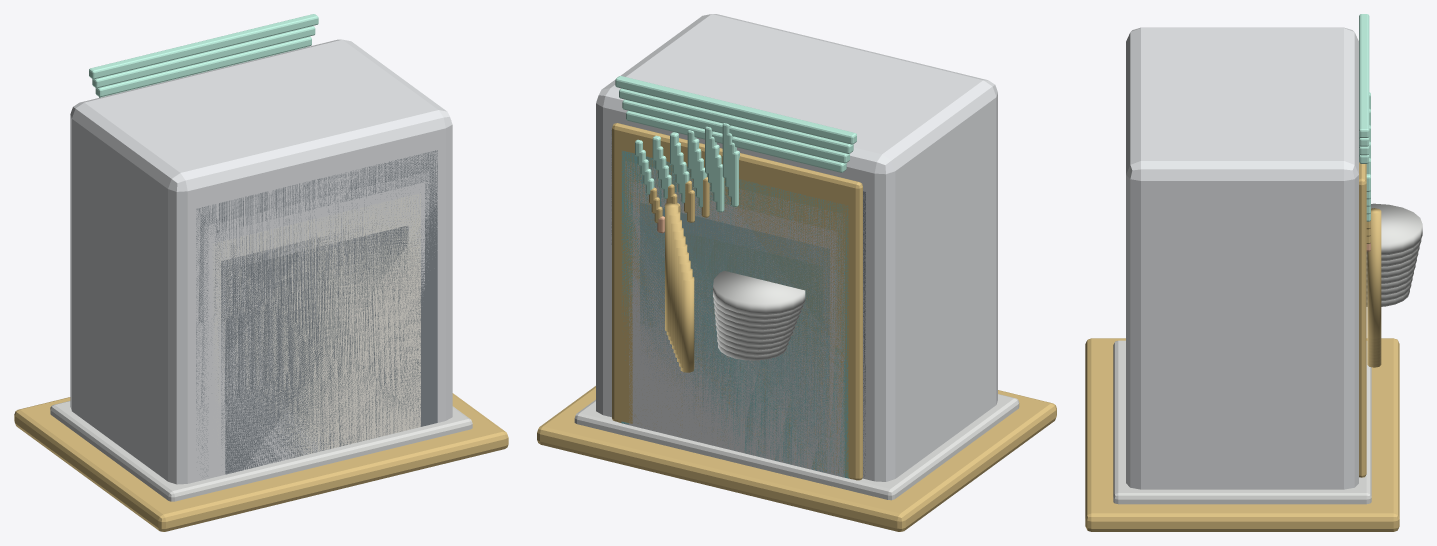
The model's file is Gear19.fbx.
3 views of the same model, side by side, from view 1: azimuth 30°, elevation 25°; view 2: azimuth 150°, elevation 25°; view 3: azimuth 270°, elevation 25° (orthographic). The views are drawn at different scales.
Parts seen in each view (by area): view 1: Gear19_V10_Platinum, Gear19_V4_Linen, Gear19_V8_Graphite, Gear19_V5_Platinum, Gear19_V1_Graphite, Gear19_V2_Graphite, Gear19_V10_Gold, Gear19_V9_Gold, Gear19_V9_Platinum, Gear19_V10_Chrome, Gear19_V10_Glow, Gear19_V9_Glow (+6 smaller); view 2: Gear19_V10_Platinum, Gear19_V10_Gold, Gear19_V3_Blue, Gear19_V5_Platinum, Gear19_V8_Aqua, Gear19_V9_Gold, Gear19_V7_Platinum, Gear19_V10_Chrome, Gear19_V2_Blue, Gear19_V6_Platinum, Gear19_V4_Platinum, Gear19_V1_Sage (+16 smaller); view 3: Gear19_V10_Platinum, Gear19_V10_Gold, Gear19_V10_Chrome, Gear19_V9_Gold, Gear19_V9_Chrome, Gear19_V10_Glow, Gear19_V6_Chrome, Gear19_V7_Chrome, Gear19_V8_Chrome, Gear19_V4_Chrome.
Boxes of the visible parts, bbox=[...] form: Gear19_V10_Platinum: bbox=[70, 39, 452, 484]; Gear19_V4_Linen: bbox=[212, 193, 420, 457]; Gear19_V8_Graphite: bbox=[196, 150, 437, 469]; Gear19_V5_Platinum: bbox=[208, 182, 424, 478]; Gear19_V1_Graphite: bbox=[225, 226, 408, 474]; Gear19_V2_Graphite: bbox=[221, 229, 371, 448]; Gear19_V10_Gold: bbox=[14, 393, 508, 531]; Gear19_V9_Gold: bbox=[26, 399, 500, 530]; Gear19_V9_Platinum: bbox=[192, 143, 441, 482]; Gear19_V10_Chrome: bbox=[50, 402, 472, 501]; Gear19_V10_Glow: bbox=[89, 14, 318, 79]; Gear19_V9_Glow: bbox=[92, 26, 315, 88]; Gear19_V10_Platinum: bbox=[596, 14, 997, 481]; Gear19_V10_Gold: bbox=[537, 123, 1056, 531]; Gear19_V3_Blue: bbox=[640, 202, 829, 463]; Gear19_V5_Platinum: bbox=[632, 182, 837, 471]; Gear19_V8_Aqua: bbox=[621, 150, 849, 478]; Gear19_V9_Gold: bbox=[544, 142, 1046, 530]; Gear19_V7_Platinum: bbox=[625, 161, 844, 477]; Gear19_V10_Chrome: bbox=[574, 270, 1019, 500]; Gear19_V2_Blue: bbox=[643, 213, 825, 472]; Gear19_V6_Platinum: bbox=[629, 171, 840, 476]; Gear19_V4_Platinum: bbox=[638, 194, 833, 474]; Gear19_V1_Sage: bbox=[648, 224, 822, 411]; Gear19_V10_Platinum: bbox=[1126, 27, 1358, 489]; Gear19_V10_Gold: bbox=[1085, 162, 1399, 531]; Gear19_V10_Chrome: bbox=[1113, 203, 1422, 504]; Gear19_V9_Gold: bbox=[1085, 336, 1399, 515]; Gear19_V9_Chrome: bbox=[1113, 239, 1421, 492]; Gear19_V10_Glow: bbox=[1359, 14, 1370, 191]; Gear19_V6_Chrome: bbox=[1114, 259, 1416, 484]; Gear19_V7_Chrome: bbox=[1113, 253, 1418, 468]; Gear19_V8_Chrome: bbox=[1113, 246, 1419, 490]; Gear19_V4_Chrome: bbox=[1113, 272, 1413, 483].
Size of the model in its own units: 84 by 81.16 by 66.52.
